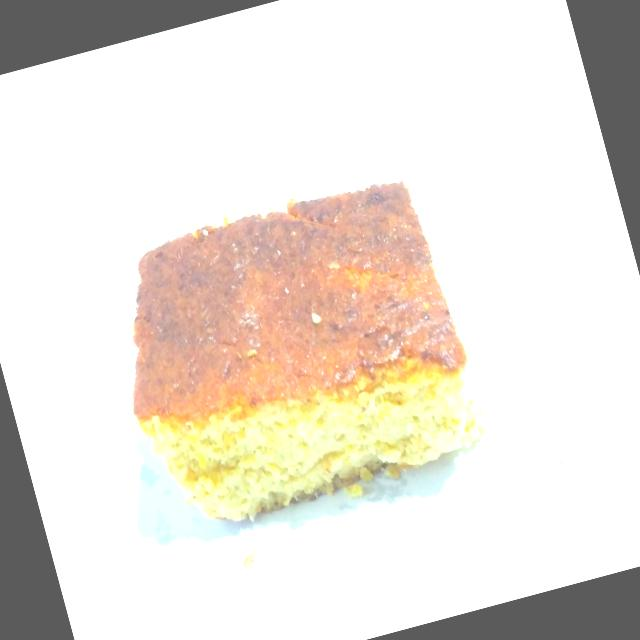Chipa_Guazu: (92, 154, 510, 549)
